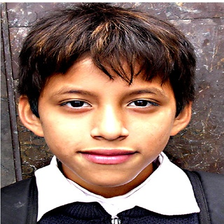no_mask: (37, 59, 175, 185)
